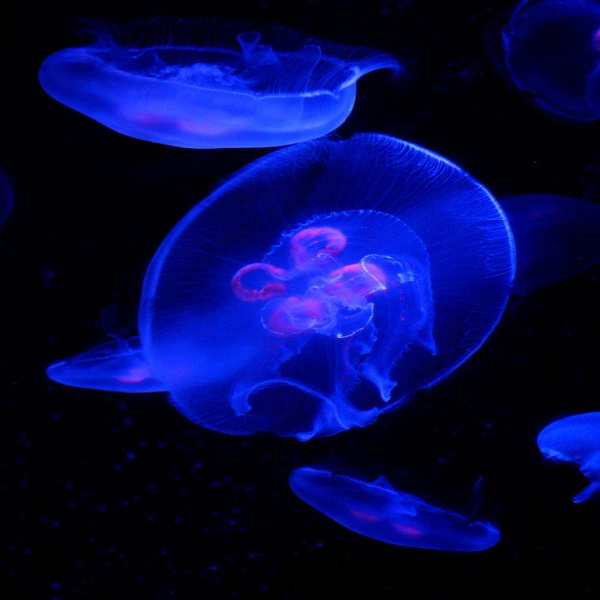Jellyfish: (137, 134, 521, 441), (33, 25, 404, 145), (293, 468, 493, 554), (48, 345, 239, 393), (542, 410, 599, 504)
